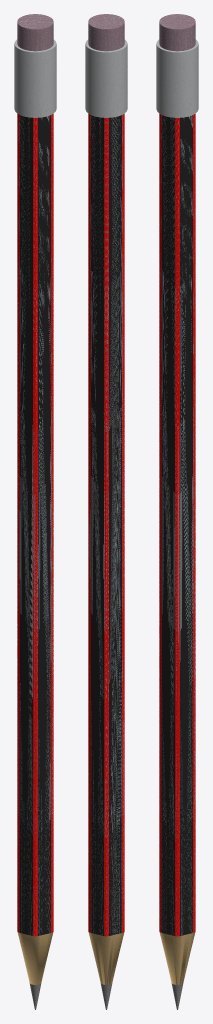
Rendered from Pencil.dae.
3 views of the same model, side by side, from view 1: azimuth 90°, elevation 25°; view 2: azimuth 210°, elevation 25°; view 3: azimuth 270°, elevation 25° (orthographic).
Parts seen in each view (by area): view 1: Wood (×5), Metal_Binding (×3), Rubber, group_0, Lead; view 2: Wood (×5), Metal_Binding (×3), Rubber, group_0, Lead; view 3: Wood (×5), Metal_Binding (×3), Rubber, group_0, Lead.
Part boxes in pixels (bbox=[...]): Wood (×5): bbox=[17, 114, 53, 936]; Metal_Binding (×3): bbox=[14, 39, 56, 117]; Rubber: bbox=[17, 14, 53, 51]; group_0: bbox=[17, 932, 53, 984]; Lead: bbox=[29, 983, 41, 1009]; Wood (×5): bbox=[88, 114, 124, 936]; Metal_Binding (×3): bbox=[85, 39, 127, 117]; Rubber: bbox=[88, 14, 124, 51]; group_0: bbox=[88, 932, 124, 984]; Lead: bbox=[100, 983, 112, 1009]; Wood (×5): bbox=[159, 114, 195, 936]; Metal_Binding (×3): bbox=[156, 39, 198, 117]; Rubber: bbox=[159, 14, 195, 51]; group_0: bbox=[159, 932, 195, 984]; Lead: bbox=[171, 983, 183, 1009].
Size of the model in its own units: 0.2756 by 0.2756 by 7.13.
